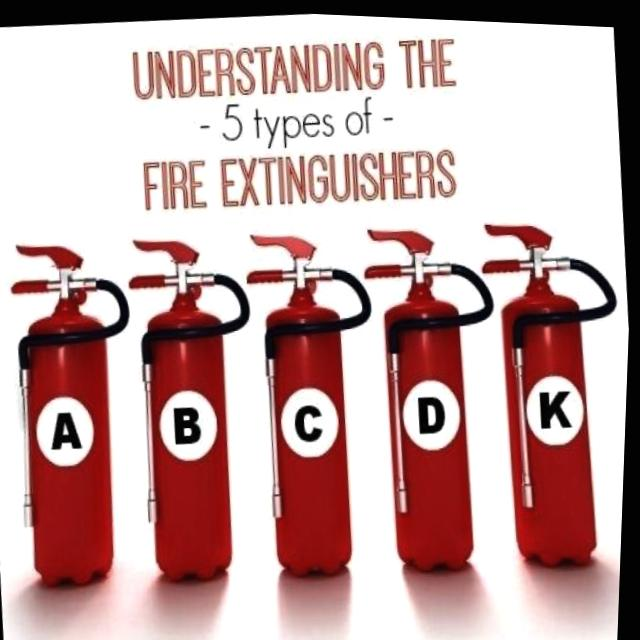FireExtinguisher: (467, 202, 635, 570), (351, 212, 520, 577), (230, 219, 398, 583), (113, 223, 280, 589), (0, 229, 159, 597)
